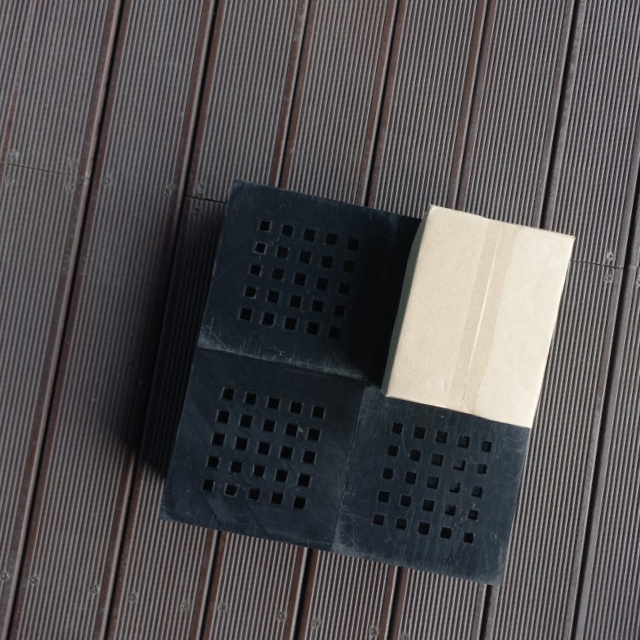box: (385, 201, 577, 428)
pallet: (155, 170, 553, 596)
